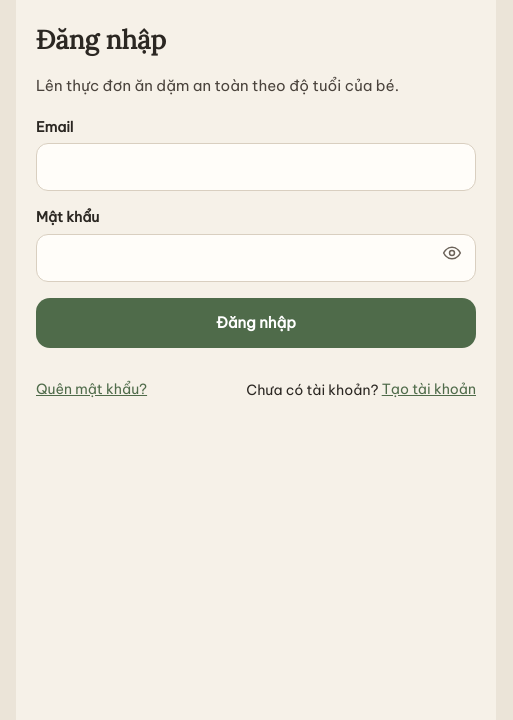
Test: login › explains INVALID_CREDENTIALS and keeps what was typed
Type "na@example.vn" into the field labelled "Email" at (256, 167), box x1=36 y1=143 x2=476 y2=191
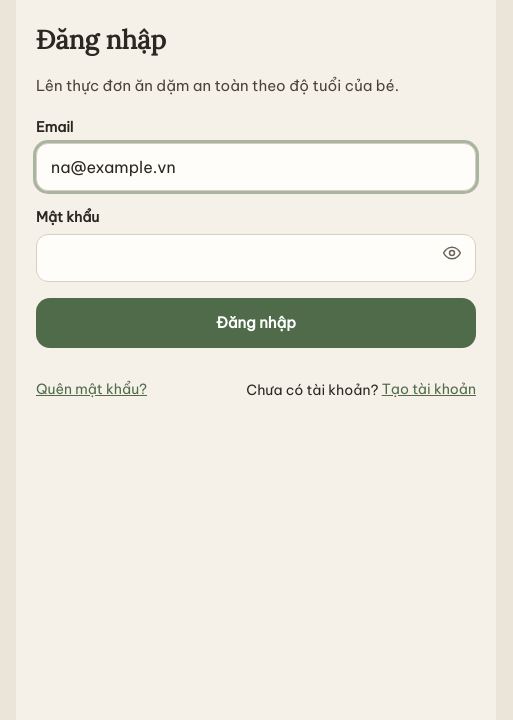
Type "wrong password" into the password field labelled "Mật khẩu" at (256, 258), box x1=36 y1=234 x2=476 y2=282
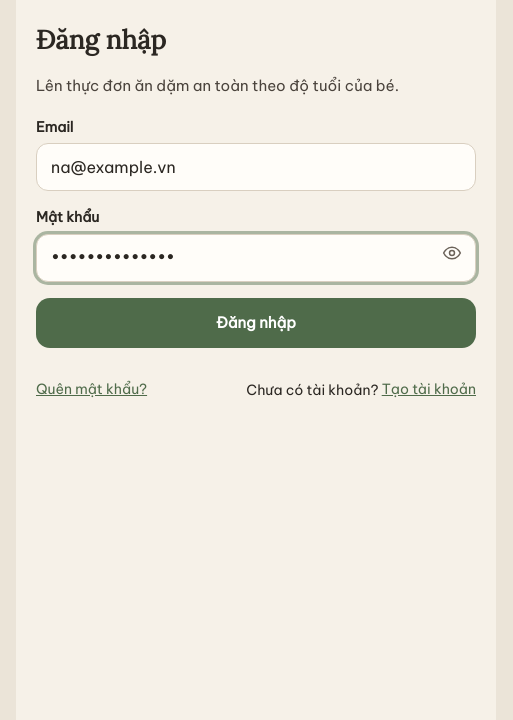
Click the button "Đăng nhập" at (256, 322), box x1=36 y1=298 x2=476 y2=348
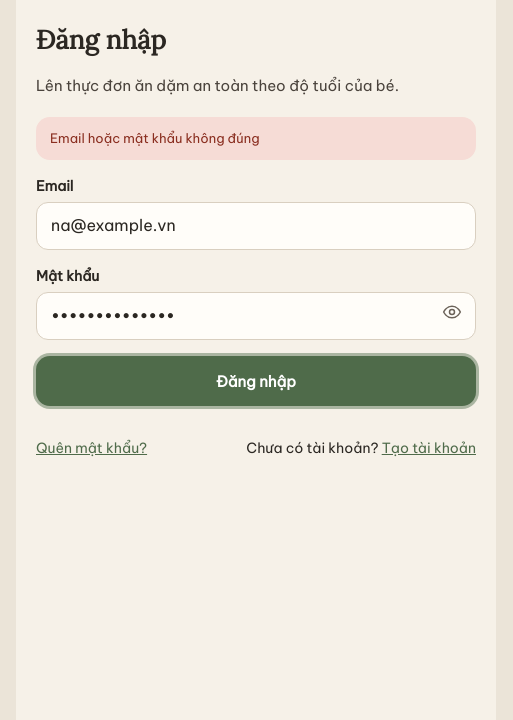
Check: the message reads "Email hoặc mật khẩu không đúng", box x1=50 y1=130 x2=260 y2=146
